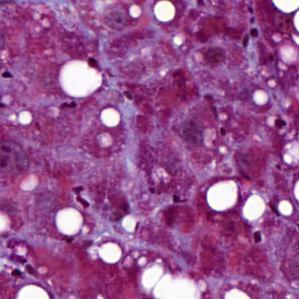inflammation: (71, 181, 96, 210)
